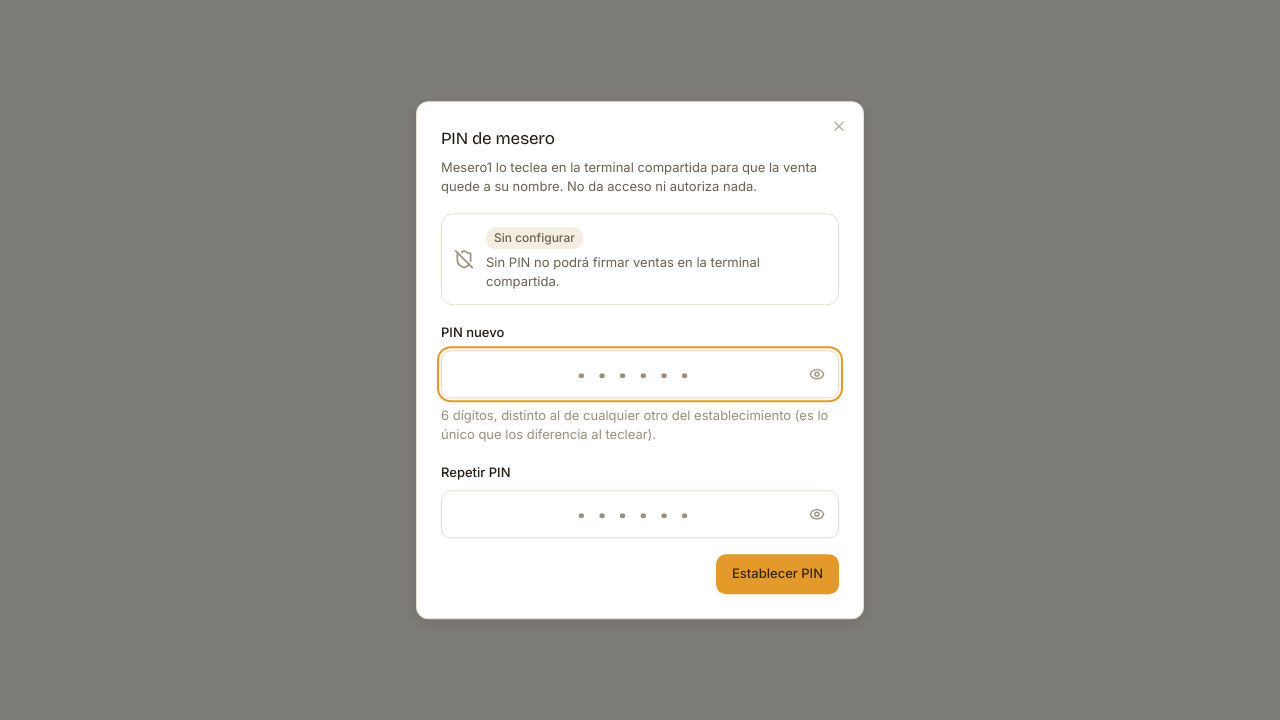
MeseroPinDialog › exige que la confirmación coincida
Expected: the text "Sin configurar" is shown, [486,227,583,249]
Type "482913" into the password field labelled "PIN nuevo" at (640, 374), box [441,350,839,398]
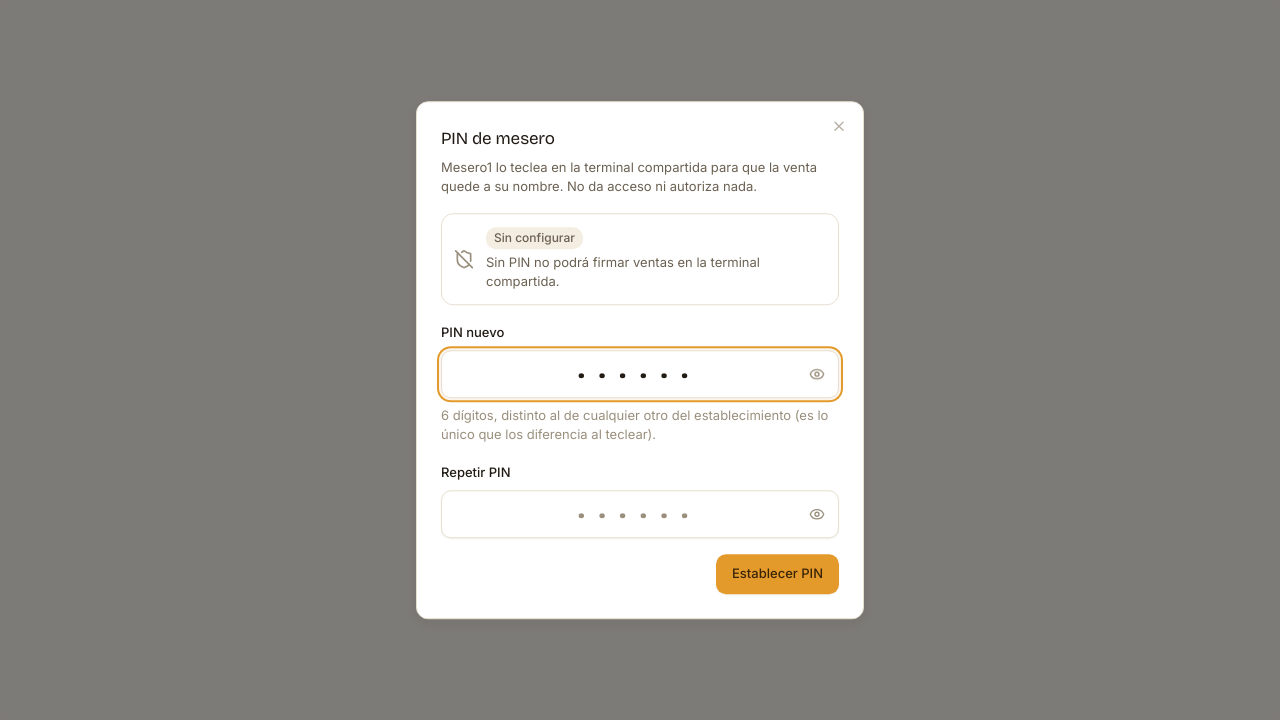
Type "482914" into the password field labelled "Repetir PIN" at (640, 514), box [441,490,839,538]
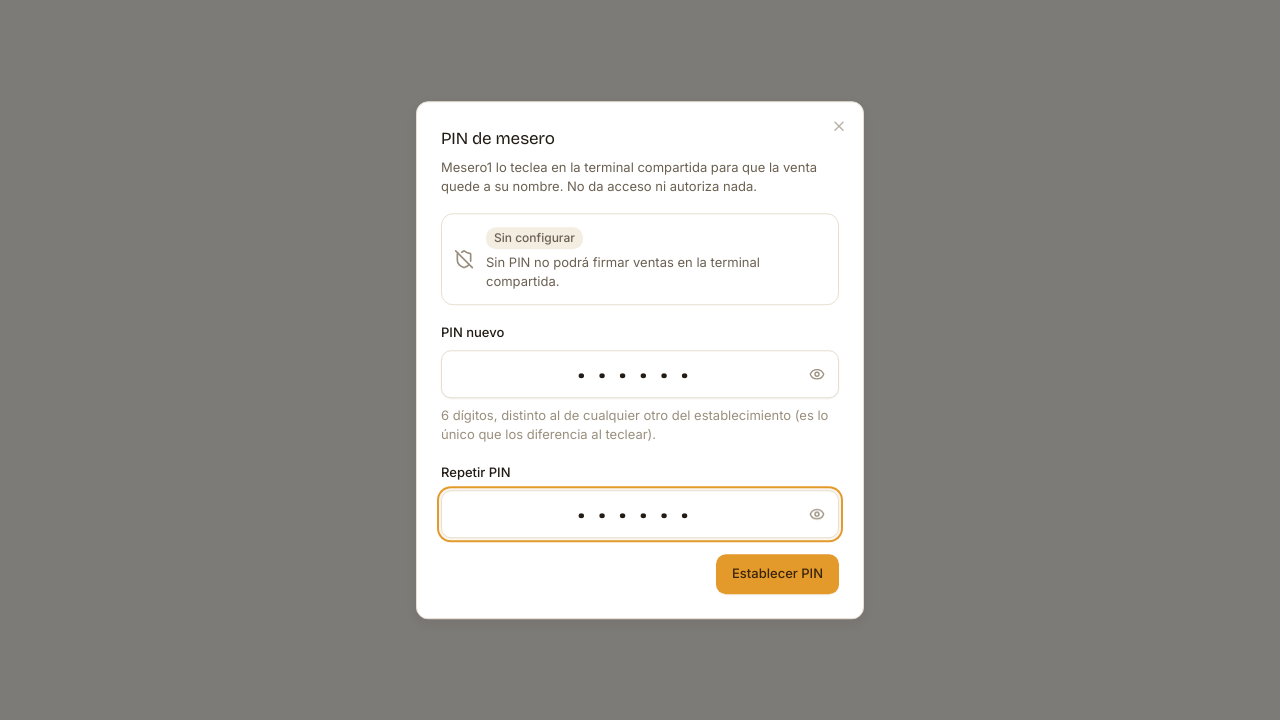
Click the button "Establecer PIN" at (778, 574), box [716,554,839,594]
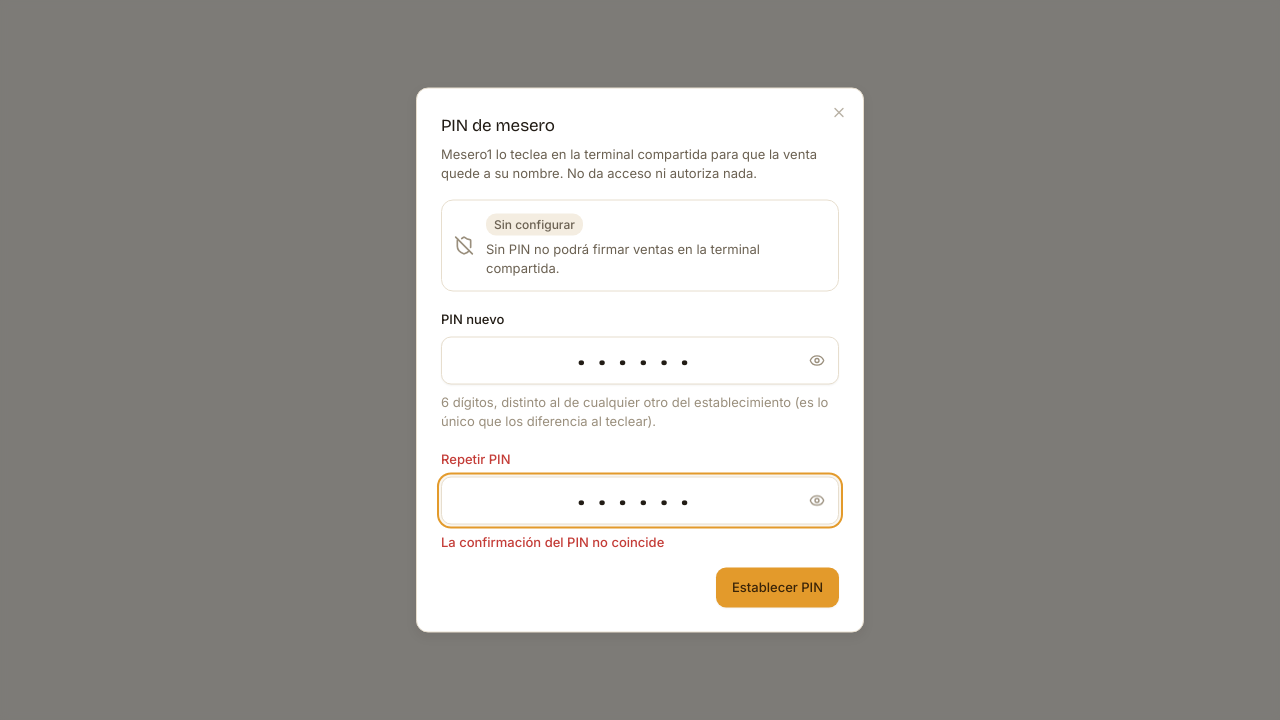
Expected: the text "La confirmación del PIN no coincide" is shown, [441,533,664,549]
